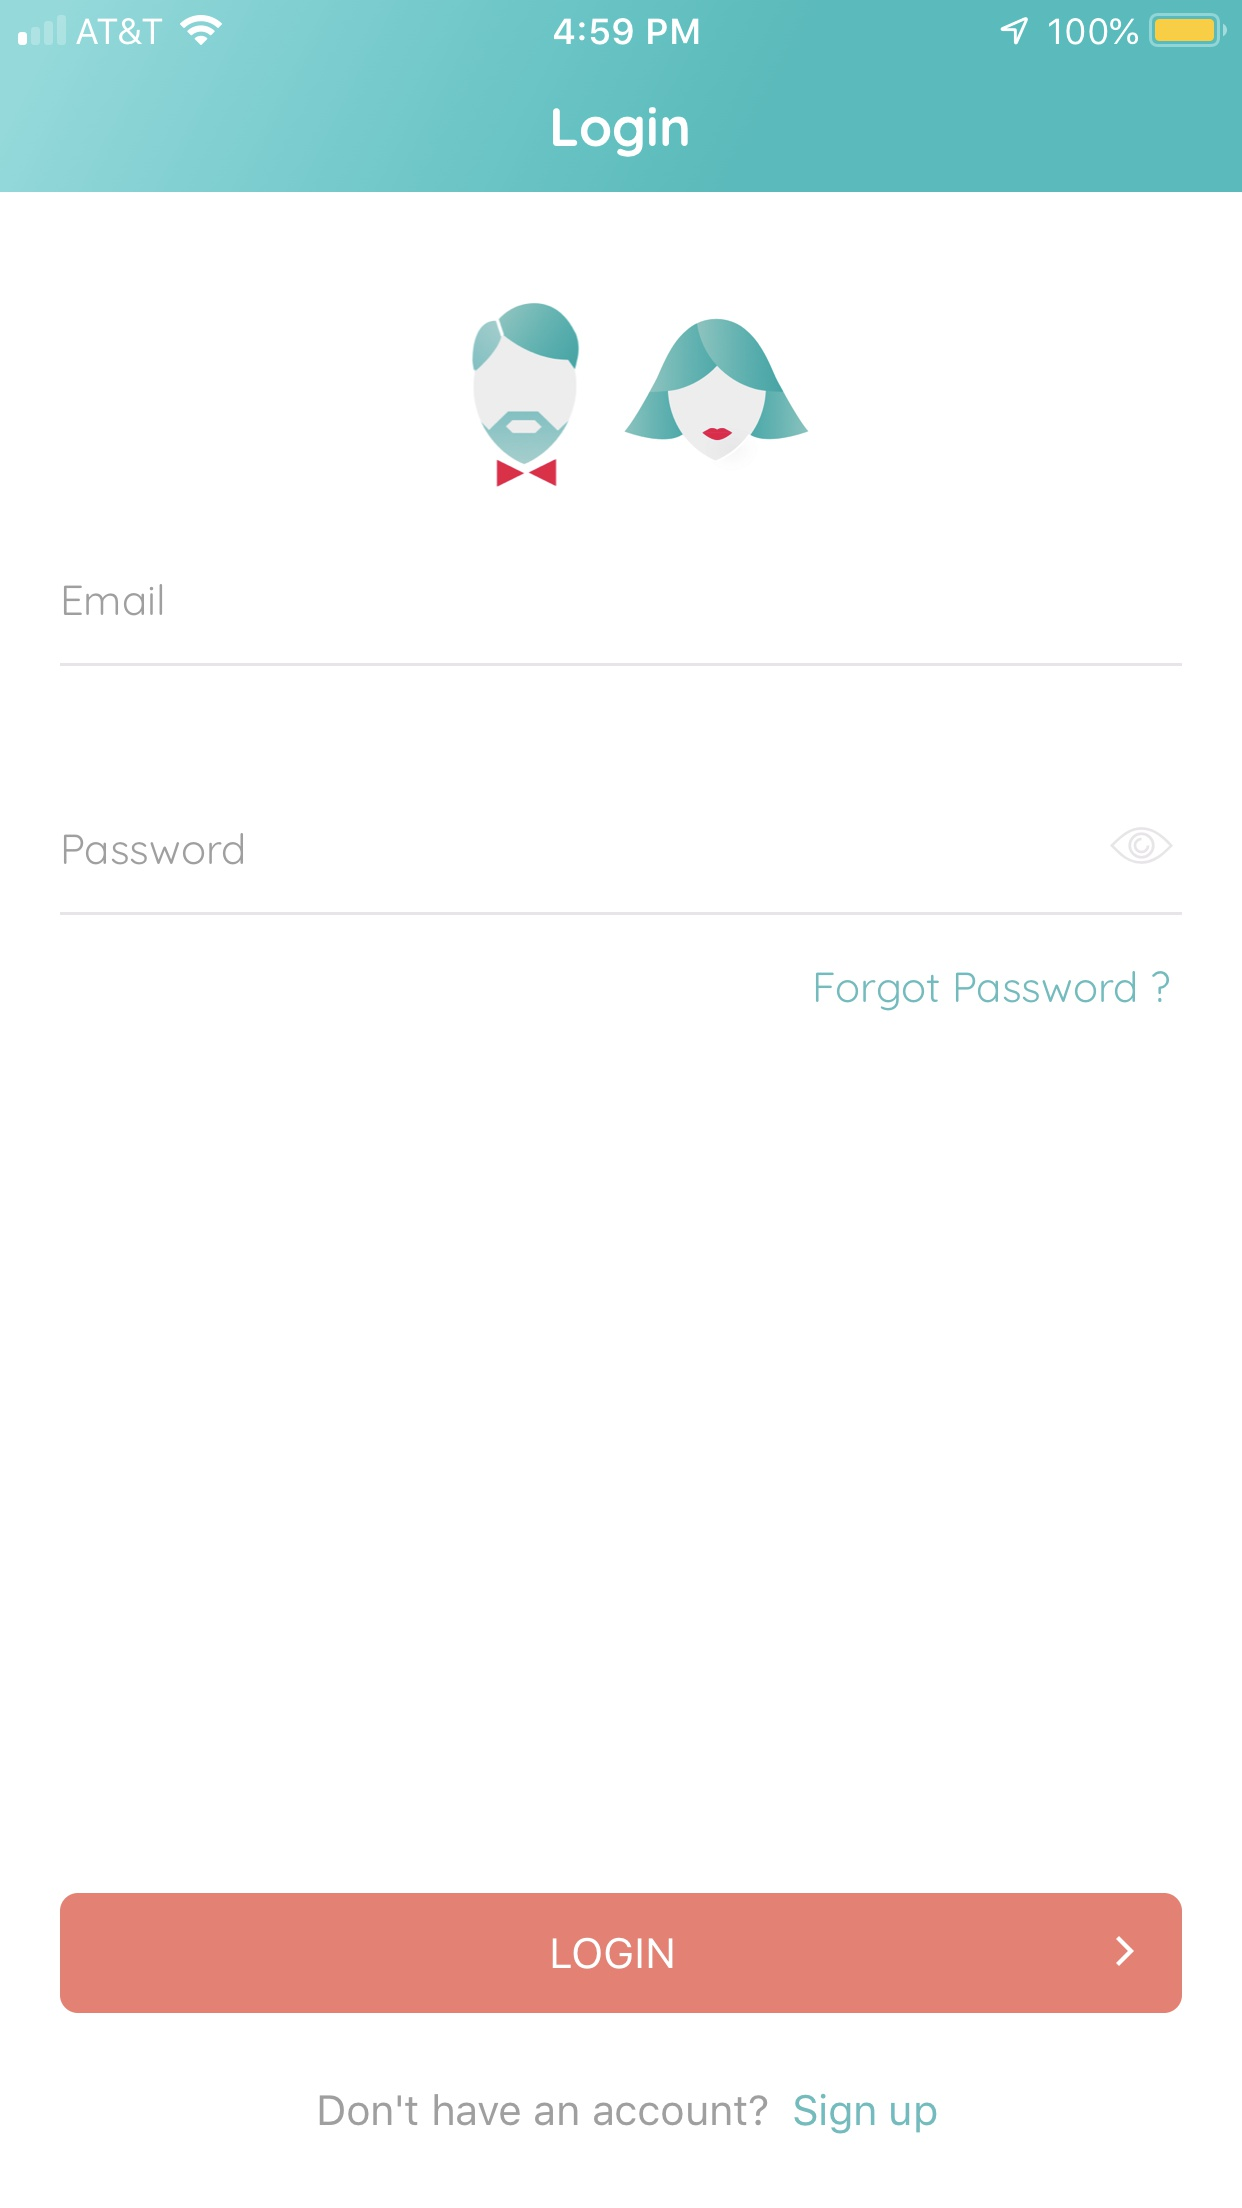EditText: (61, 826, 1183, 917), (61, 584, 1183, 667)
Icon: (1110, 826, 1174, 864), (1115, 1937, 1134, 1967)
Image: (470, 300, 810, 485)
Text: (318, 2093, 767, 2128), (814, 971, 1171, 1011), (552, 108, 688, 159), (795, 2093, 939, 2135), (64, 833, 246, 866), (64, 584, 164, 617)
TextButton: (61, 1893, 1183, 2014)
UpperTaskBar: (2, 2, 1242, 49)
